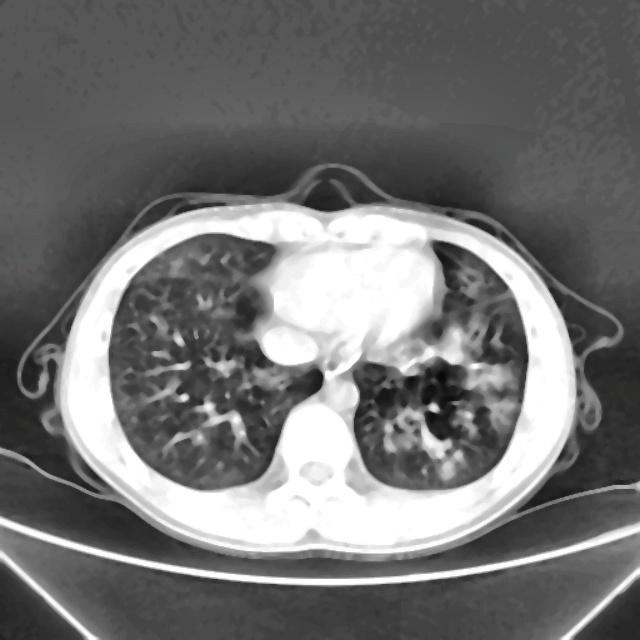covid: (23, 167, 621, 562)
